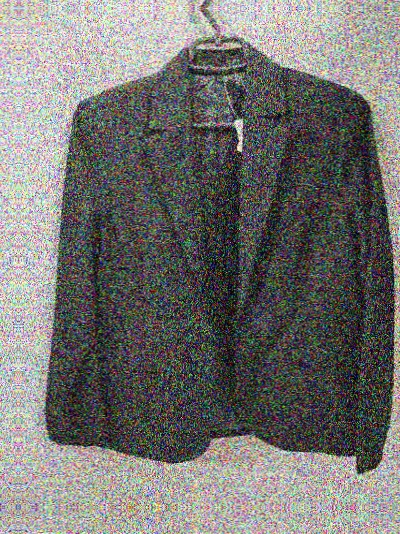Blazer: (24, 41, 400, 474), (0, 41, 12, 473)
